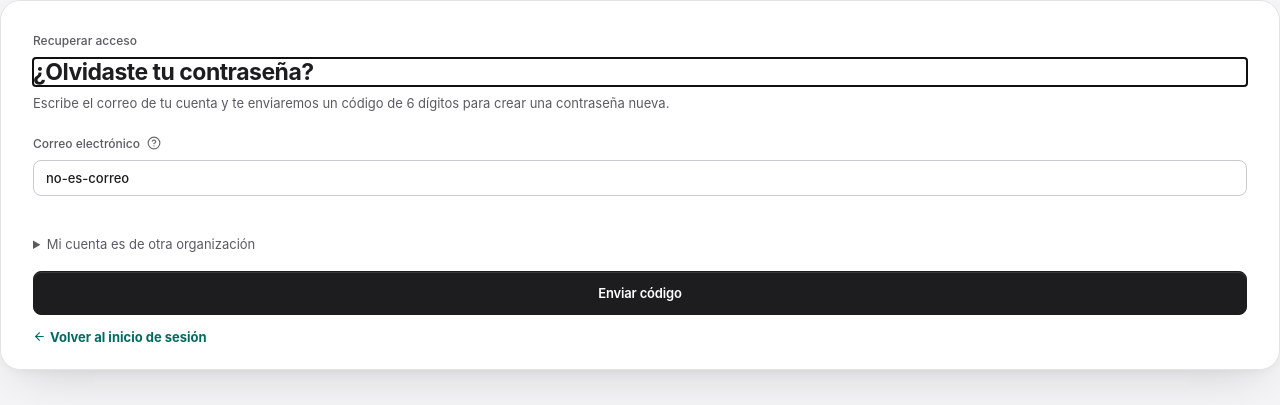
Test: PasswordRecovery › no pide el código con un correo mal escrito y lo señala en el campo
Click the button "Enviar código".
click(640, 293)  # box [33, 271, 1247, 315]
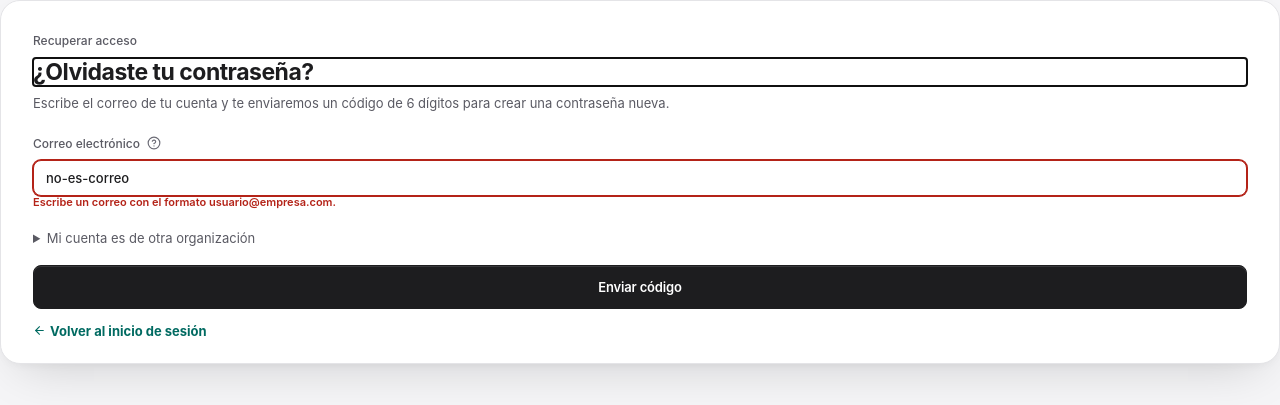
Now the text "Escribe un correo con el formato usuario@empresa.com." is shown, box [33, 195, 336, 209]
